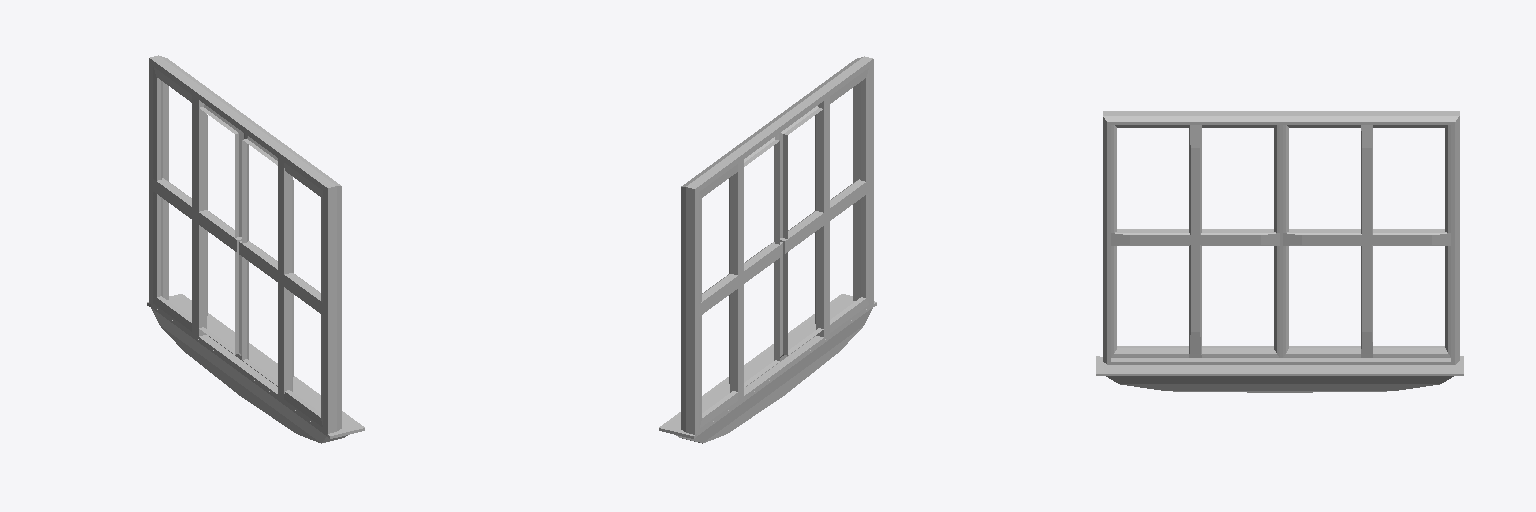
File: Window.obj
3 views of the same model, side by side, from view 1: azimuth 30°, elevation 25°; view 2: azimuth 150°, elevation 25°; view 3: azimuth 270°, elevation 25° (orthographic).
Visible parts, largest first — view 1: Cube.003, Cube.005, Cube.004; view 2: Cube.003, Cube.005, Cube.004; view 3: Cube.003, Cube.005, Cube.004.
Boxes of the visible parts, box(x1,y1,x2,y2) form: Cube.003: box(153, 78, 322, 417); Cube.005: box(149, 55, 341, 433); Cube.004: box(147, 294, 364, 443); Cube.003: box(699, 78, 868, 417); Cube.005: box(681, 56, 873, 434); Cube.004: box(659, 294, 876, 443); Cube.003: box(1111, 125, 1450, 357); Cube.005: box(1103, 111, 1459, 364); Cube.004: box(1096, 356, 1463, 392).
Size of the model in its own units: 0.3161 by 2.34 by 2.84.